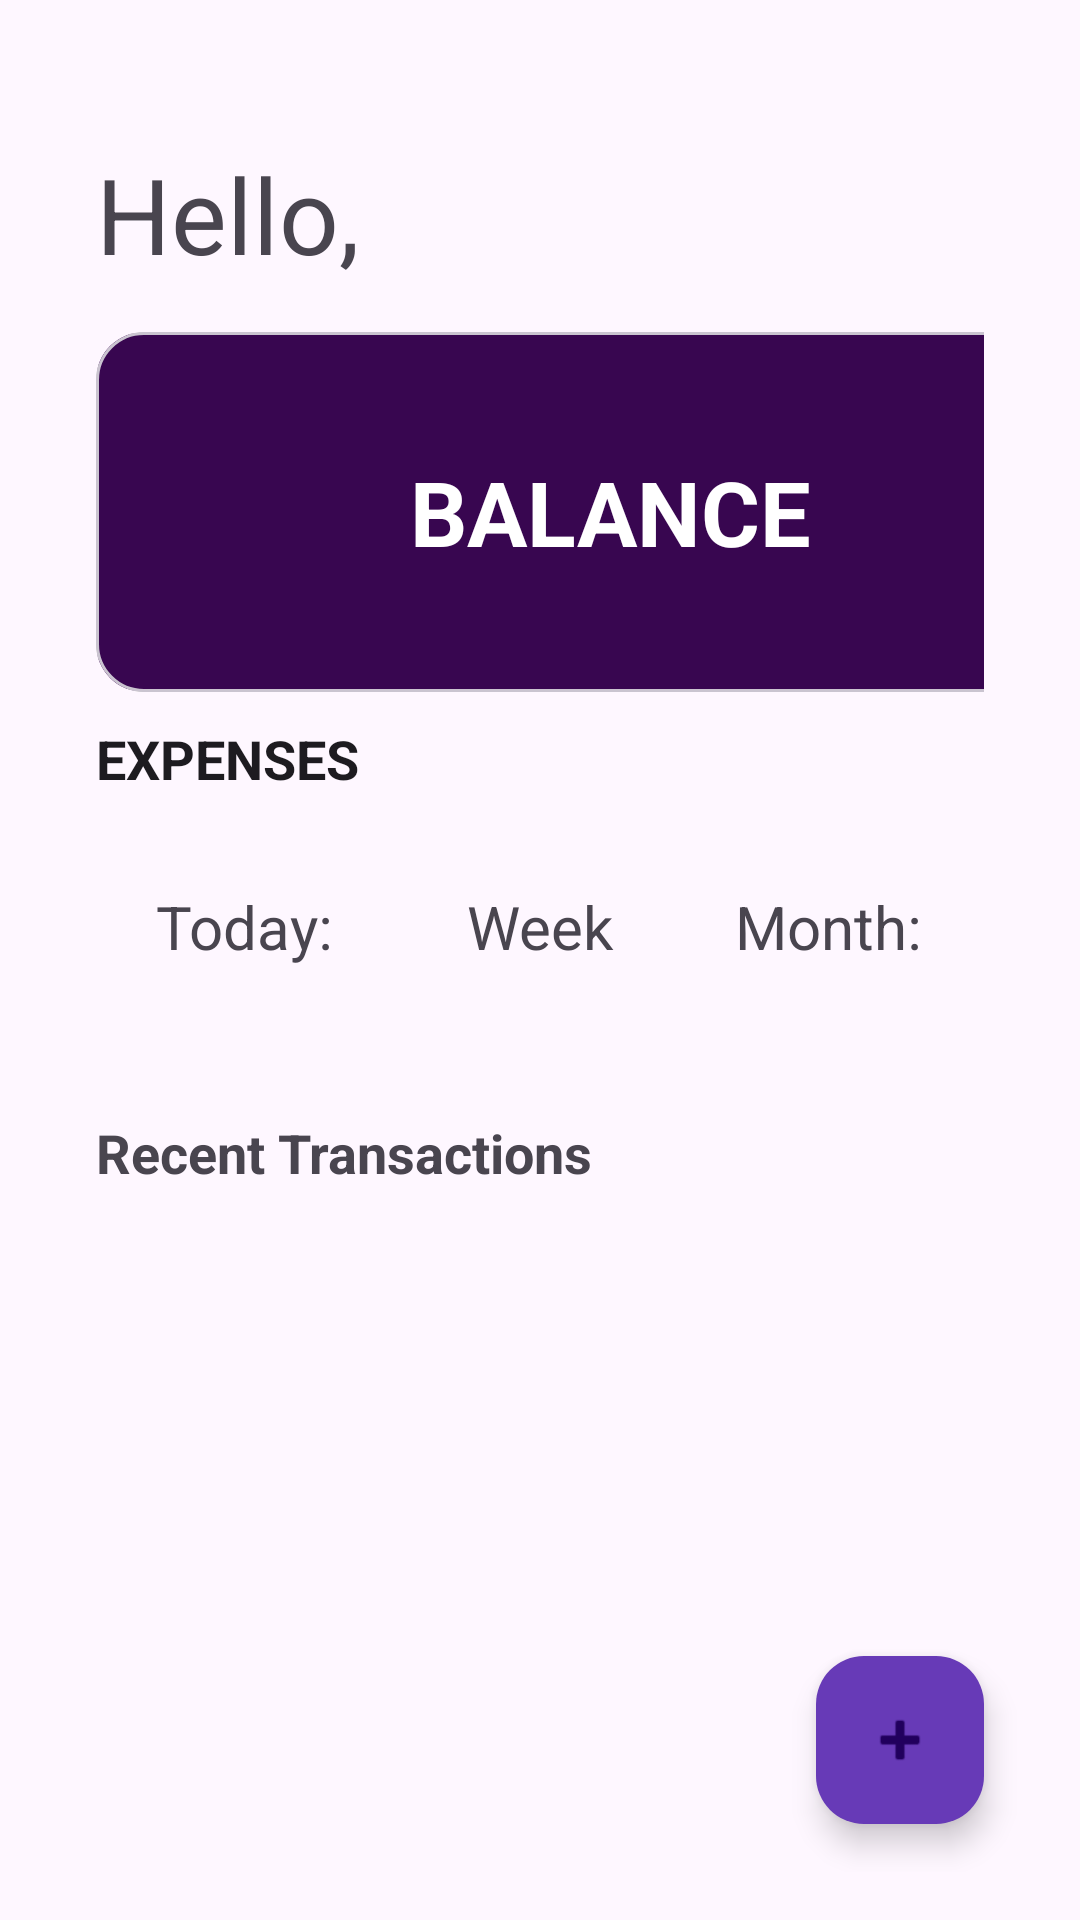

Named icons in this screenshot (1080px x 1920px) and their centers, point (x, y):
Add Expense: point (900, 1740)
